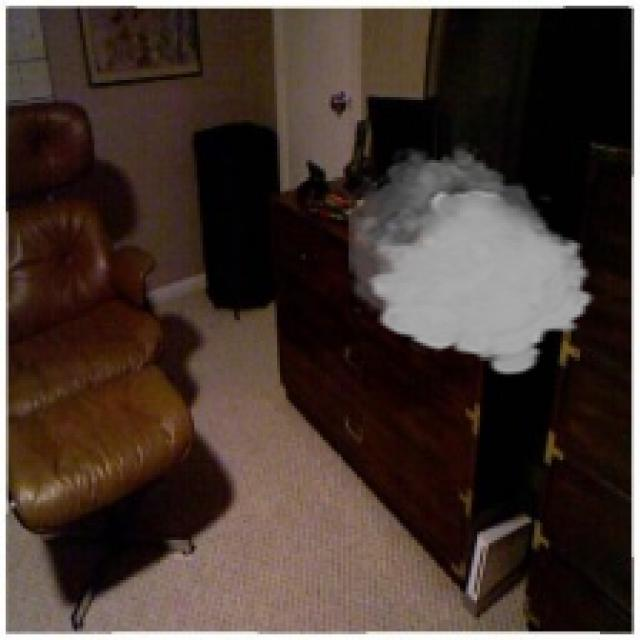smoke: (349, 140, 597, 377)
